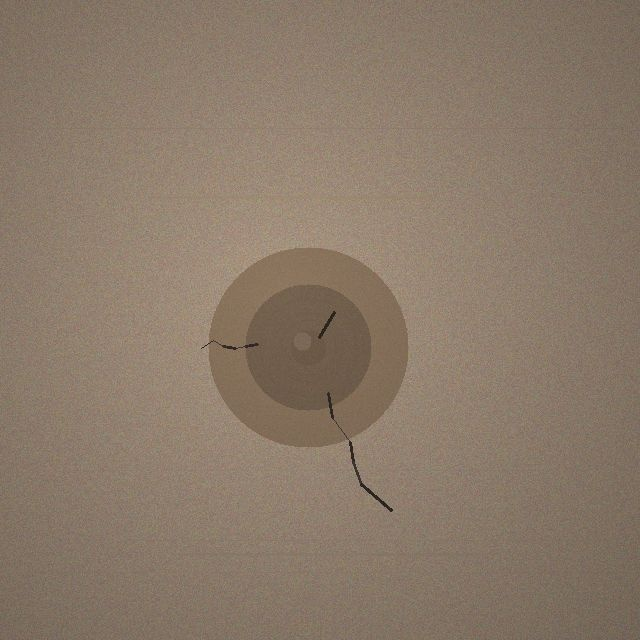crack: (208, 247, 408, 447)
